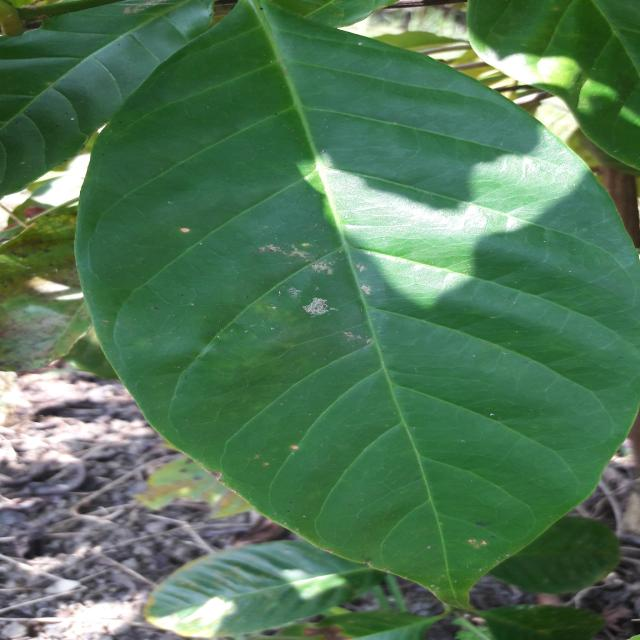Sanas: (73, 0, 640, 610)
